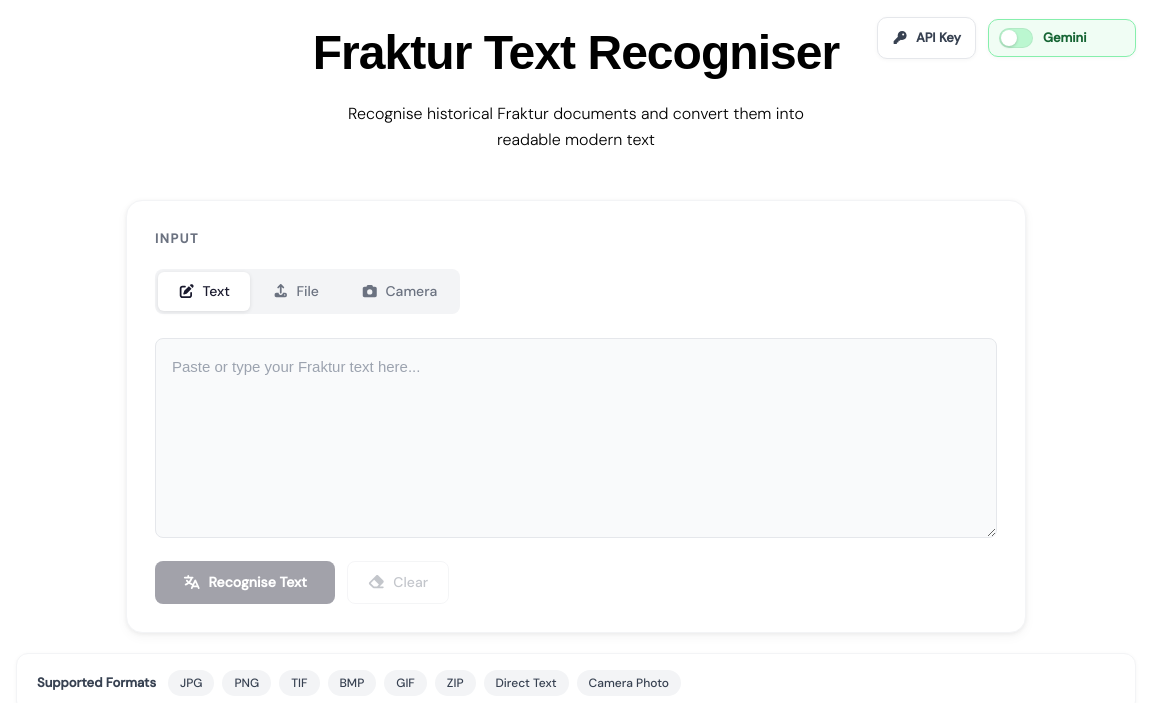
Scenario: TranslatorPage › opens API key panel on API Key button click
Click the button "API Key".
click(926, 38)  # box [877,17,976,58]
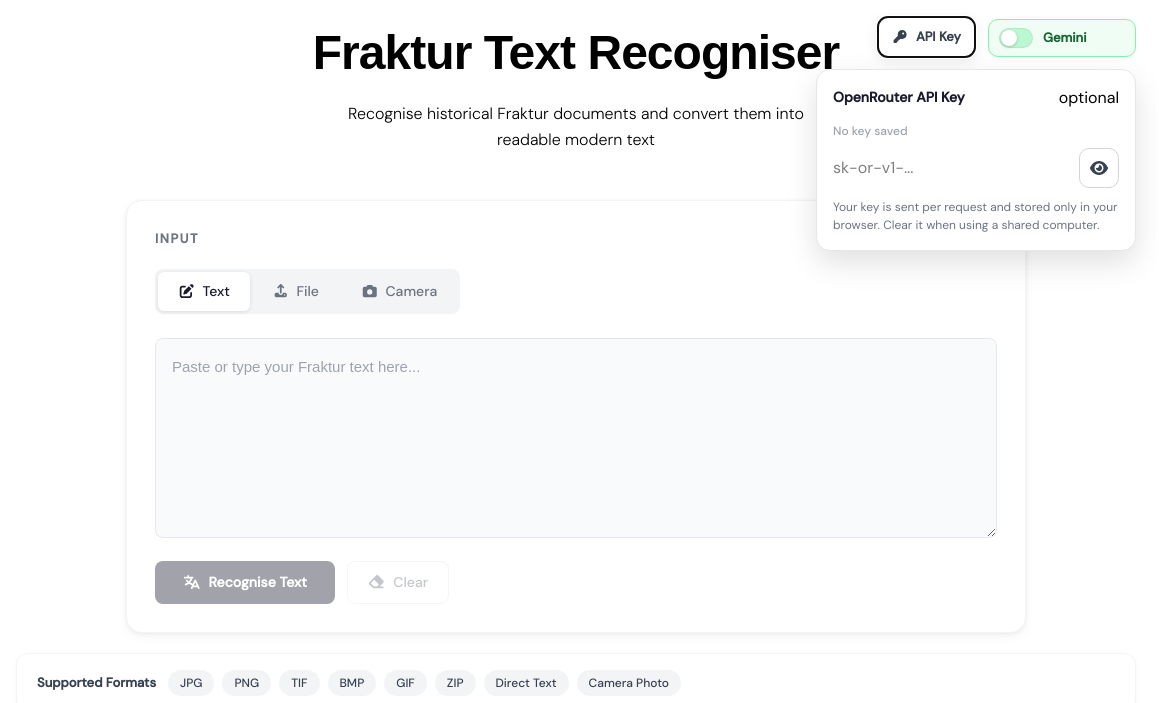
expect the password field with placeholder "sk-or-v1-..." is shown: met, box [833,156,1069,180]
